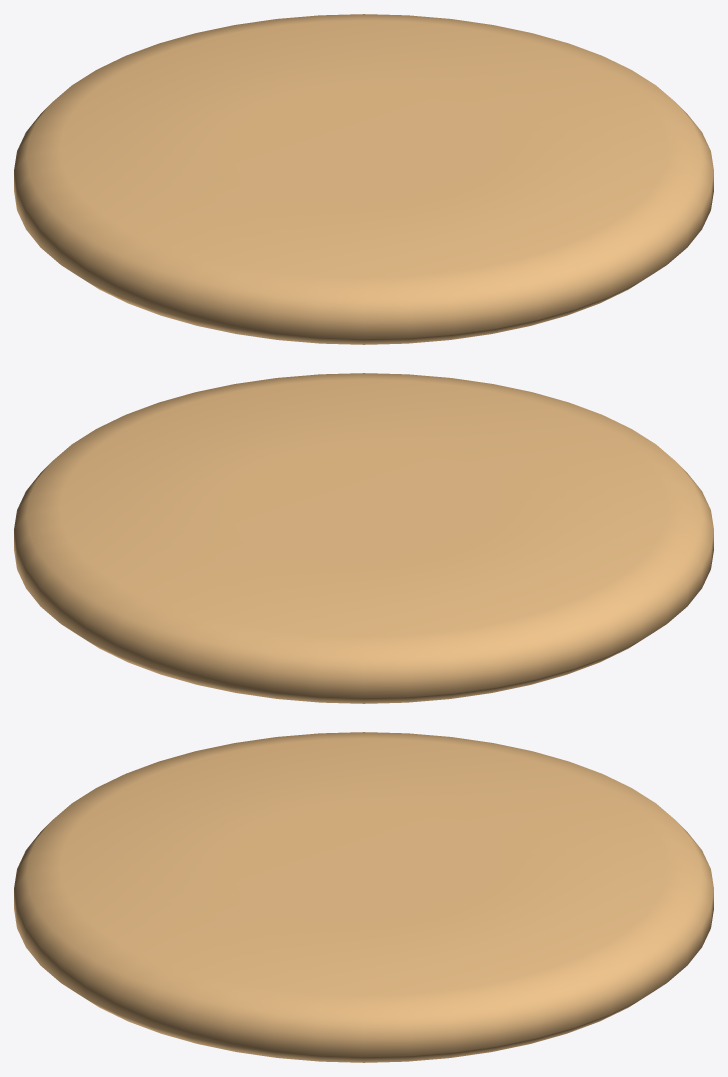
Rendered from sand_round_step.glb.
3 renders of one model, top to bottom at view 1: azimuth 30°, elevation 25°; view 2: azimuth 150°, elevation 25°; view 3: azimuth 270°, elevation 25°, orthographic.
Visible parts, largest first — view 1: rounded_stepping_stone; view 2: rounded_stepping_stone; view 3: rounded_stepping_stone.
Part boxes in pixels (x1,y1,x2,y2): rounded_stepping_stone: (14, 14, 713, 344); rounded_stepping_stone: (14, 373, 713, 703); rounded_stepping_stone: (14, 732, 713, 1062).
Bounding box in the file's own units: 0.8098 × 0.08 × 0.8098.
